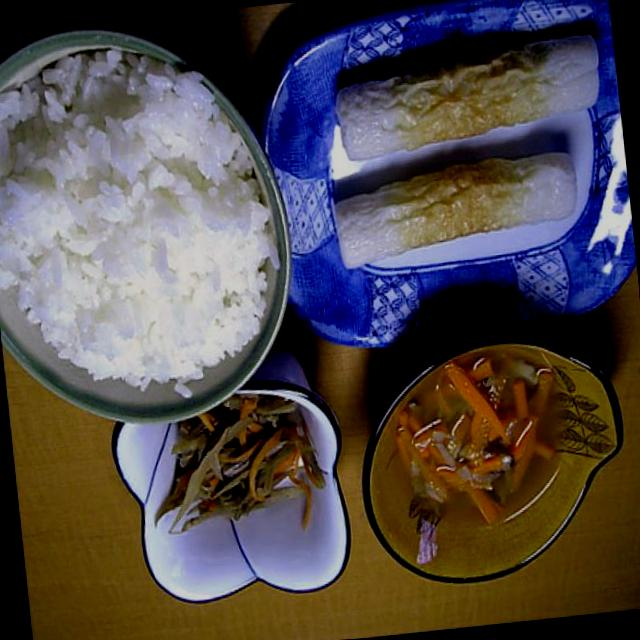Rice: (0, 270, 200, 518)
